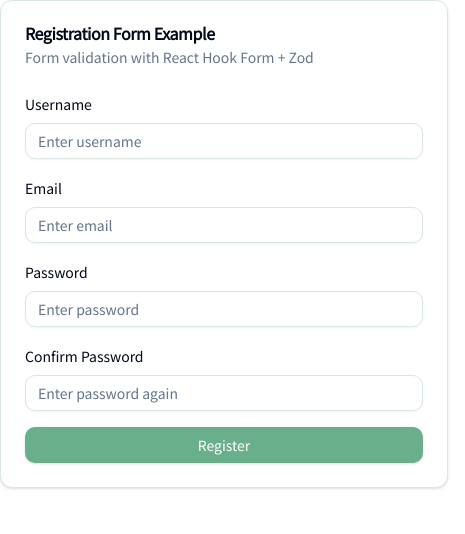
Test: FormExample 组件 › 应该显示密码不匹配错误
Type "testuser" into the field labelled "Username" at [224, 141], box [25, 123, 423, 159]
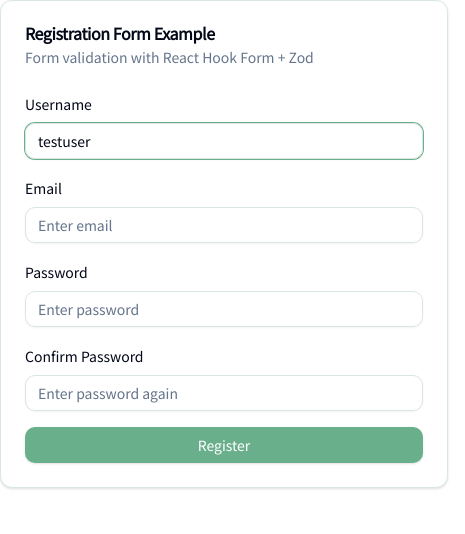
Type "test@example.com" into the field labelled "Email" at [224, 225], box [25, 207, 423, 243]
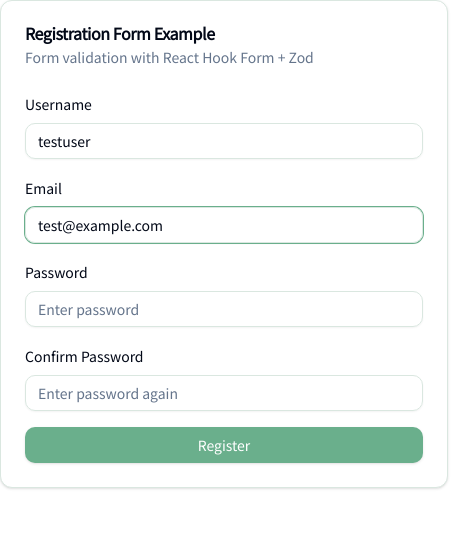
Type "password123" into the password field labelled "Password" at [224, 309], box [25, 291, 423, 327]
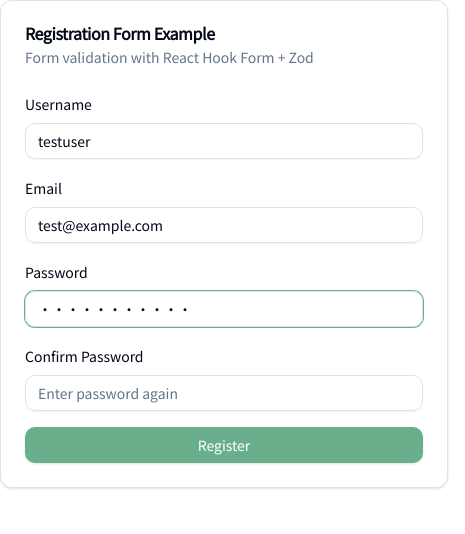
Type "different" into the password field labelled "Confirm Password" at [224, 393], box [25, 375, 423, 411]
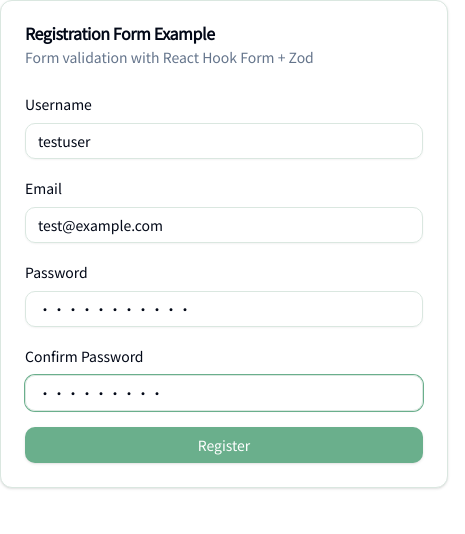
Click the button "Register" at [224, 445], box [25, 427, 423, 463]
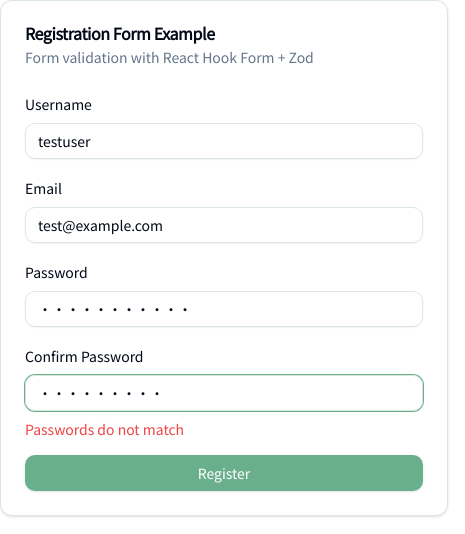
expect the text "Passwords do not match" is shown: met, box [25, 419, 184, 439]
